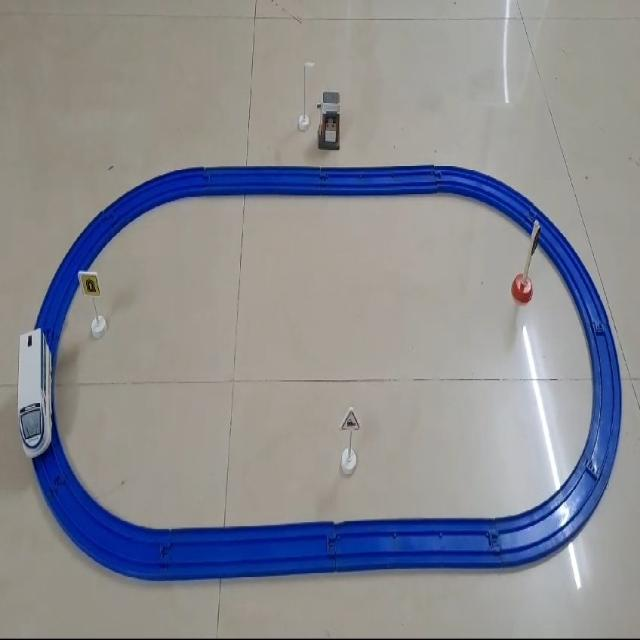bus: (17, 326, 52, 456)
